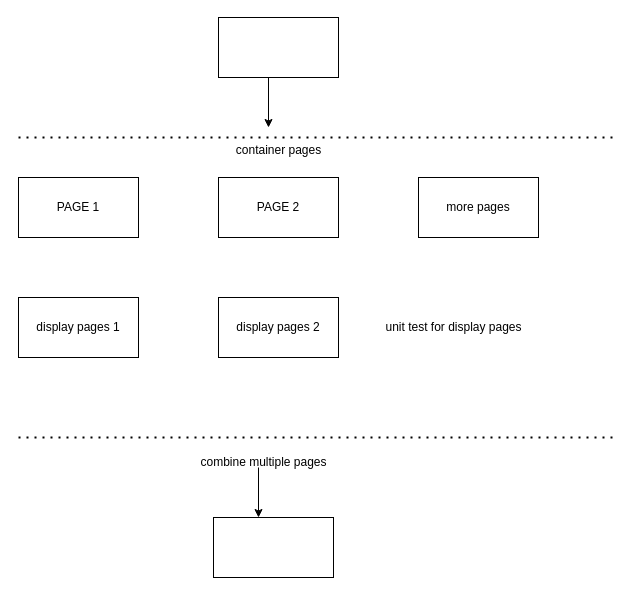
Image size: 637x595. Some labels were removed from this diagram. The shapes that lost their labels are listed below. From the top down, each one's centre as x and y in pixels, then its label:
(278,47): prototype analyze
(273,547): combine the states and logic
